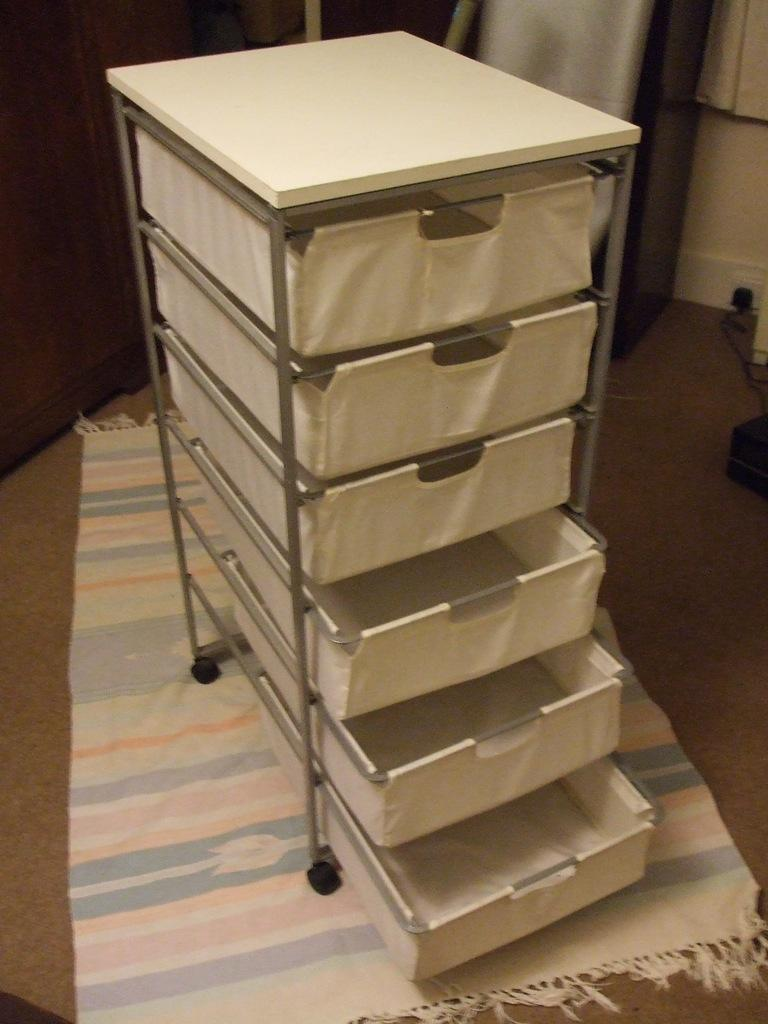cabinet_door: (302, 214, 586, 294), (343, 330, 579, 422), (395, 830, 656, 912), (341, 452, 565, 529), (378, 700, 610, 771), (349, 589, 604, 650)
handle: (418, 182, 498, 212), (435, 323, 499, 357), (514, 856, 572, 893), (422, 446, 482, 480), (451, 582, 502, 622), (478, 705, 534, 741)
